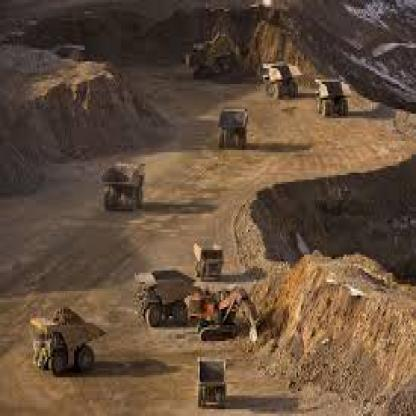dump_truck: (23, 275, 115, 373), (122, 264, 190, 332), (96, 150, 152, 218), (254, 48, 310, 107), (187, 341, 234, 411), (309, 68, 354, 123), (215, 98, 254, 157), (191, 229, 230, 282)
excavator: (186, 278, 266, 352)
